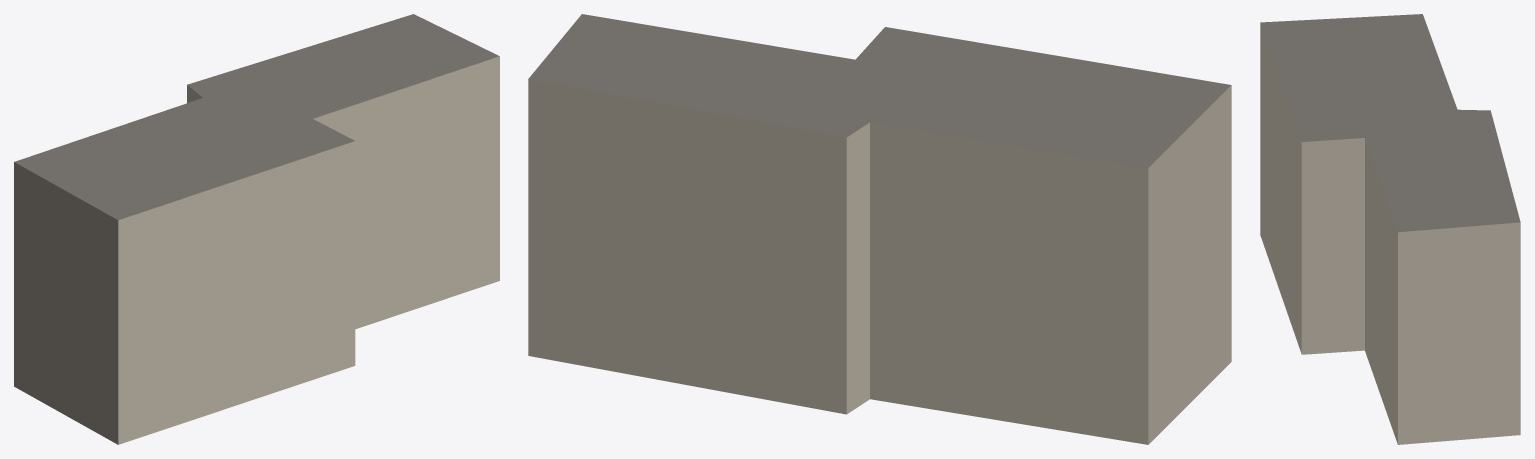
3 views of the same model, side by side, from view 1: azimuth 30°, elevation 25°; view 2: azimuth 150°, elevation 25°; view 3: azimuth 270°, elevation 25° (orthographic). The views are drawn at different scales.
Visible parts, largest first — view 1: HP-w505641165; view 2: HP-w505641165; view 3: HP-w505641165.
Boxes of the visible parts, left/top/right/bottom form: HP-w505641165: left=14, top=14, right=499, bottom=444; HP-w505641165: left=528, top=14, right=1231, bottom=444; HP-w505641165: left=1260, top=14, right=1520, bottom=444.
Size of the model in its own units: 39.62 by 18 by 19.97.
